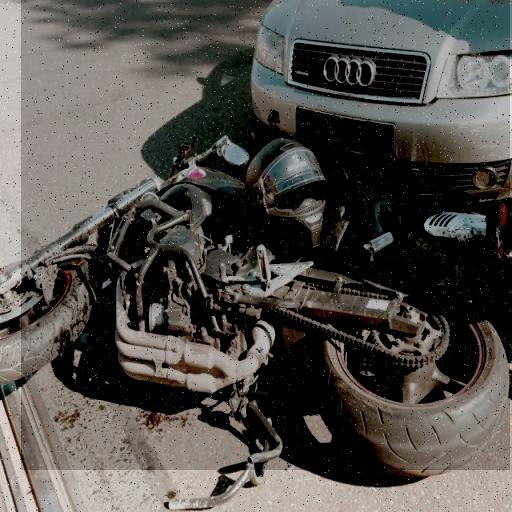小汽车撞自行车: (21, 0, 510, 470)
